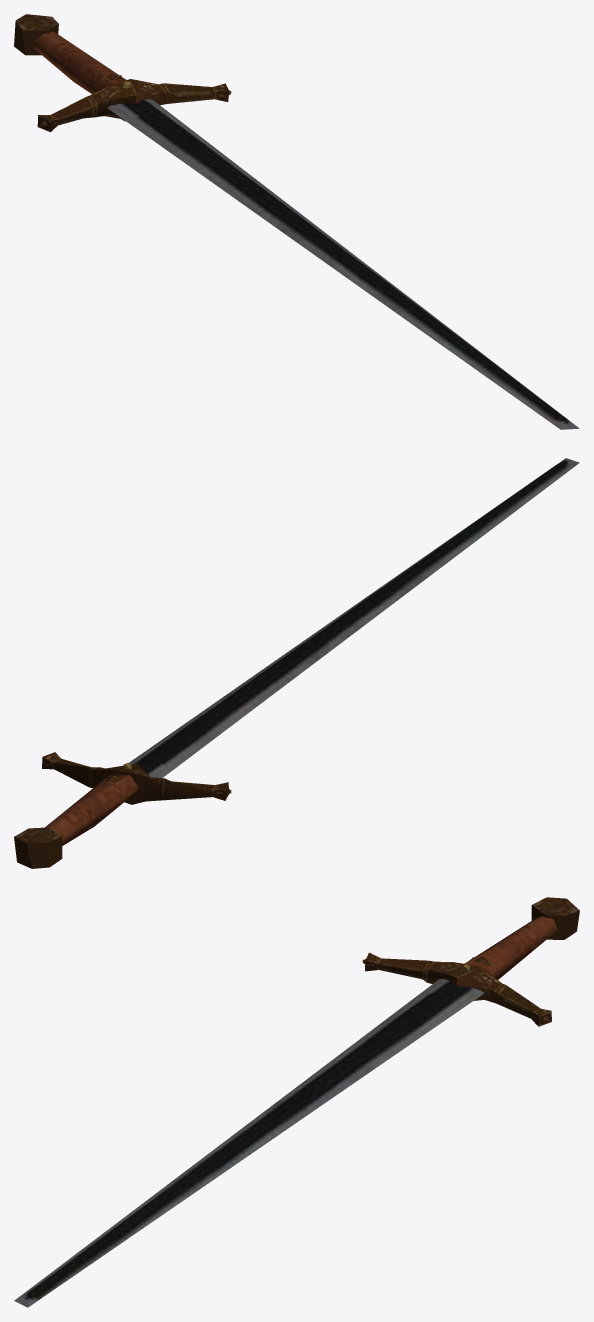
The model's file is longsword-animated.glb.
3 views of the same model, one above another, from view 1: azimuth 30°, elevation 25°; view 2: azimuth 150°, elevation 25°; view 3: azimuth 330°, elevation 25° (orthographic).
Visible parts, largest first — view 1: Longsword; view 2: Longsword; view 3: Longsword.
Part boxes in pixels (x1=…): Longsword: x1=14, y1=14, x2=579, y2=429; Longsword: x1=14, y1=458, x2=579, y2=868; Longsword: x1=14, y1=897, x2=579, y2=1307.
Size of the model in its own units: 1.13 by 0.2096 by 5.67.
1 material, 1 textured.
